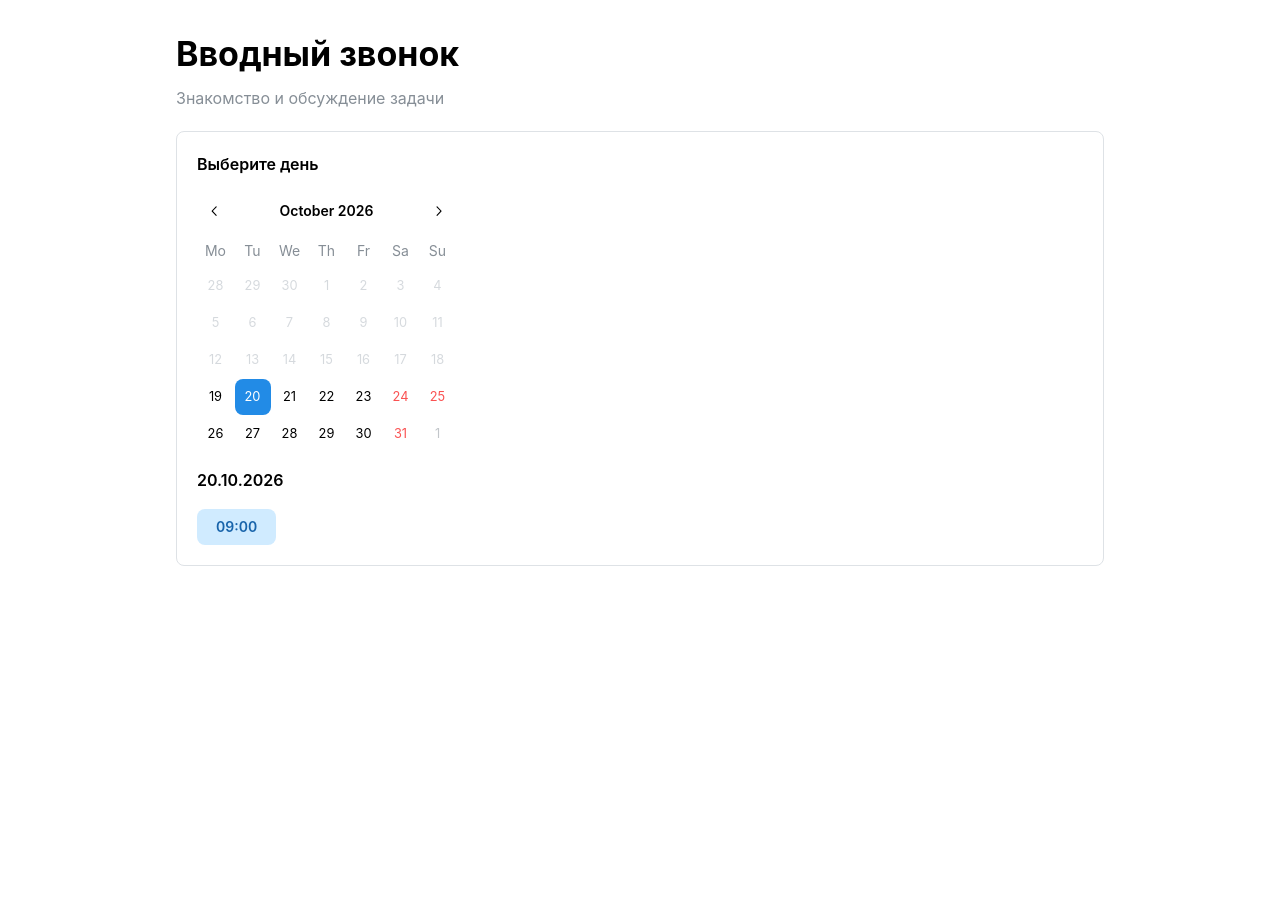
BookingPage (запись на слот) › при 409 показывает уведомление и перезапрашивает слоты
Check: the heading "Вводный звонок" is shown, box [176,33,459,74]
Click the button "09:00".
click(237, 527)  # box [197,509,276,545]
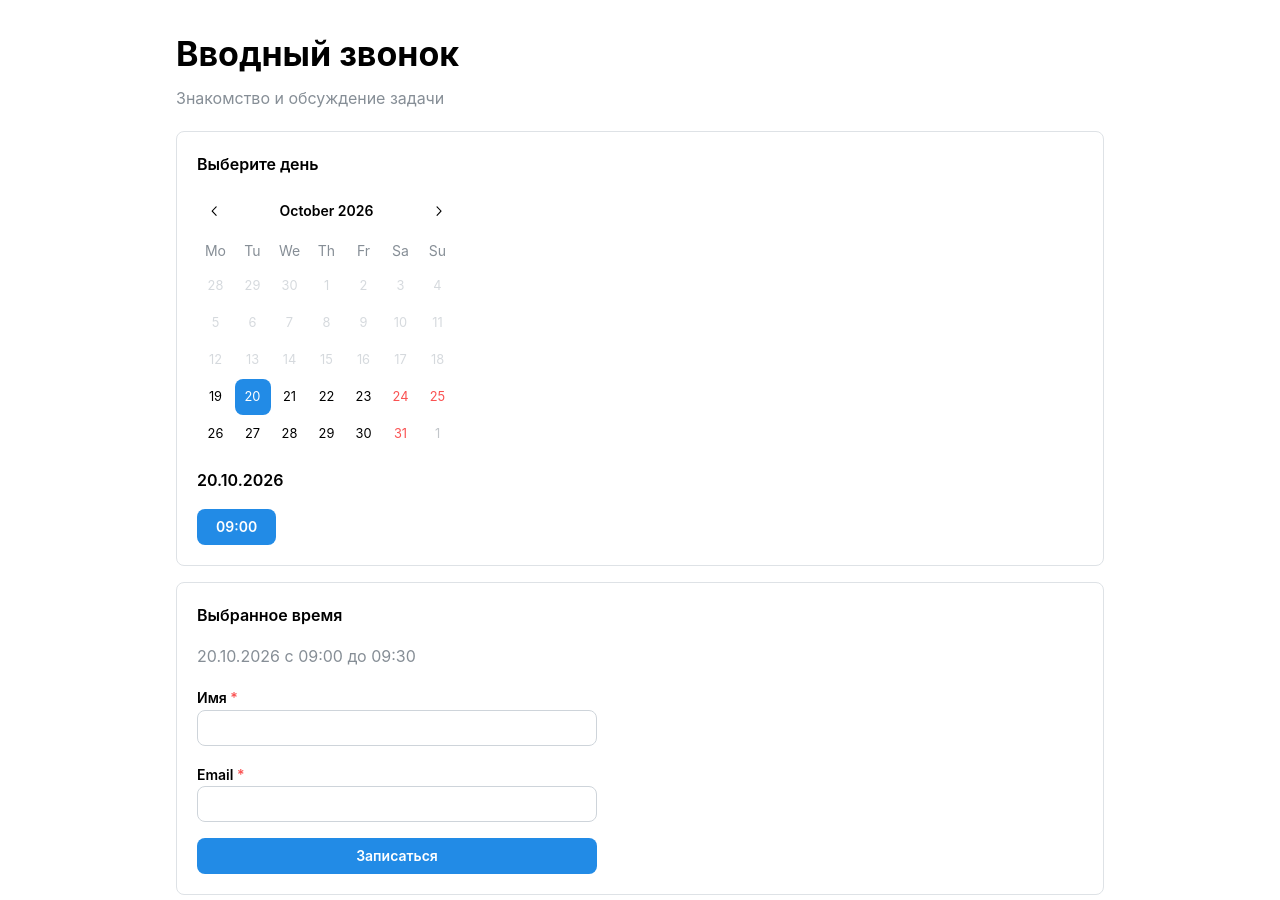
Type "Иван" into the field labelled "Имя *".
click(397, 728); type("Иван")  # box [197,710,597,746]
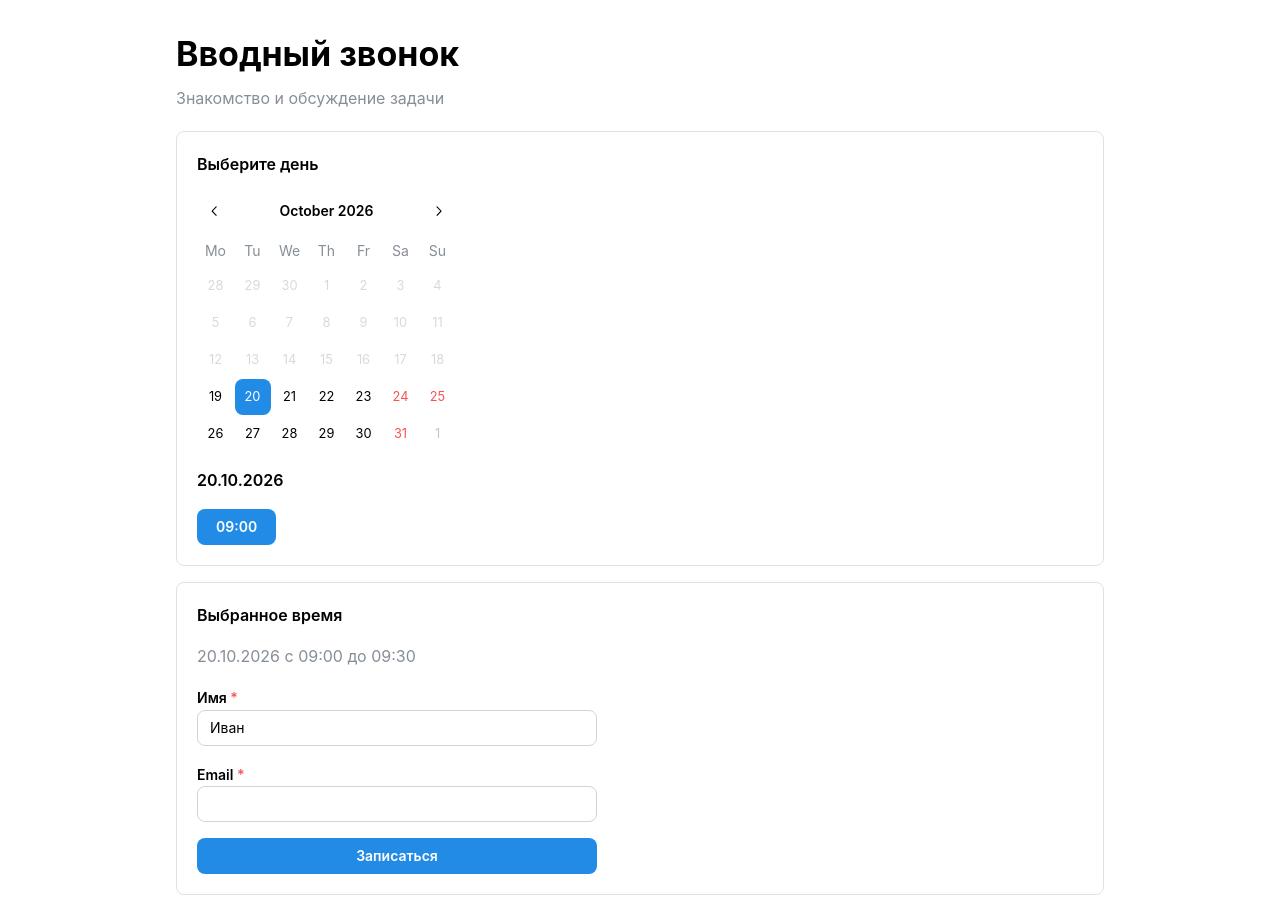
Type "ivan@example.com" into the field labelled "Email *".
click(397, 804); type("ivan@example.com")  # box [197,786,597,822]
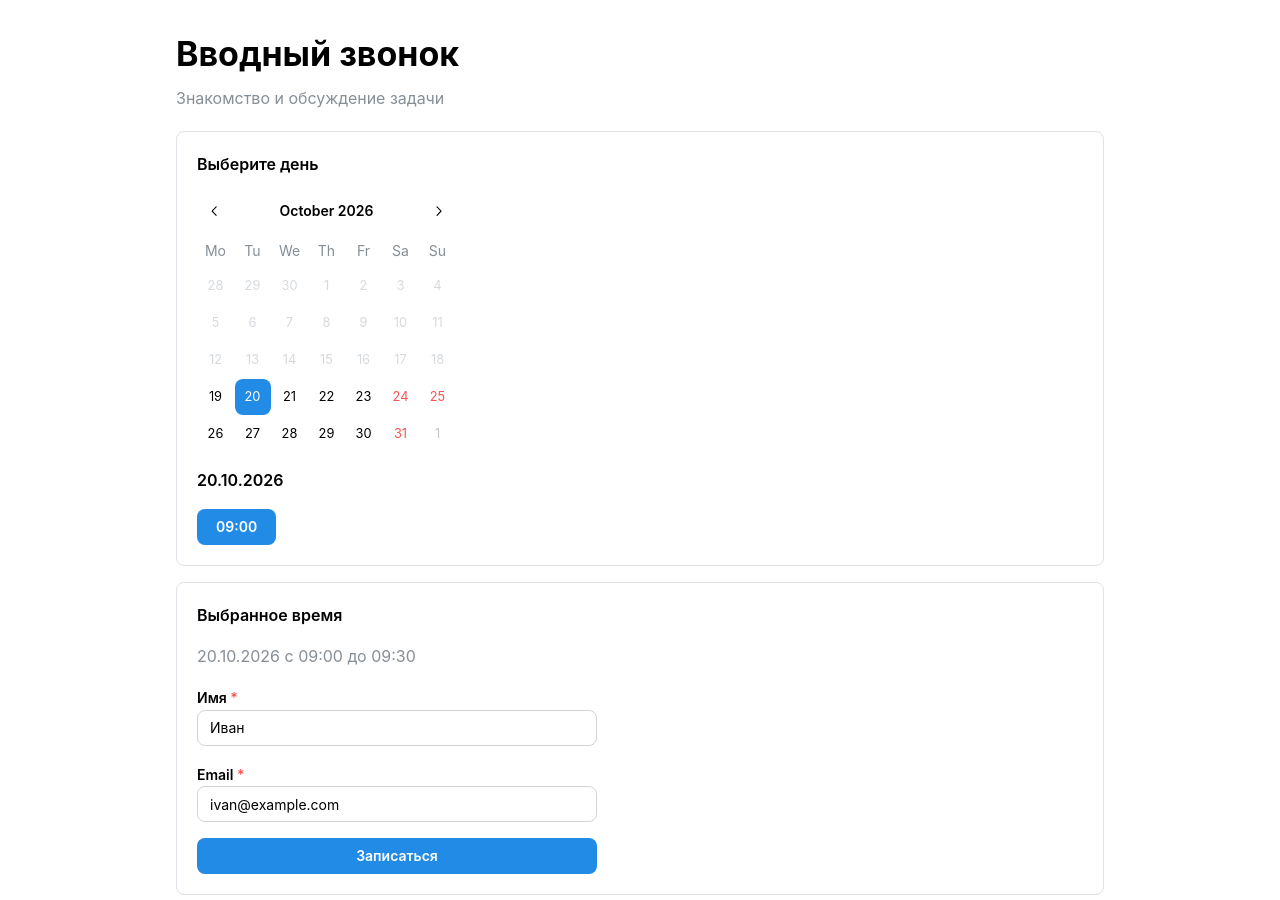
Click the button "Записаться".
click(397, 856)  # box [197,838,597,874]
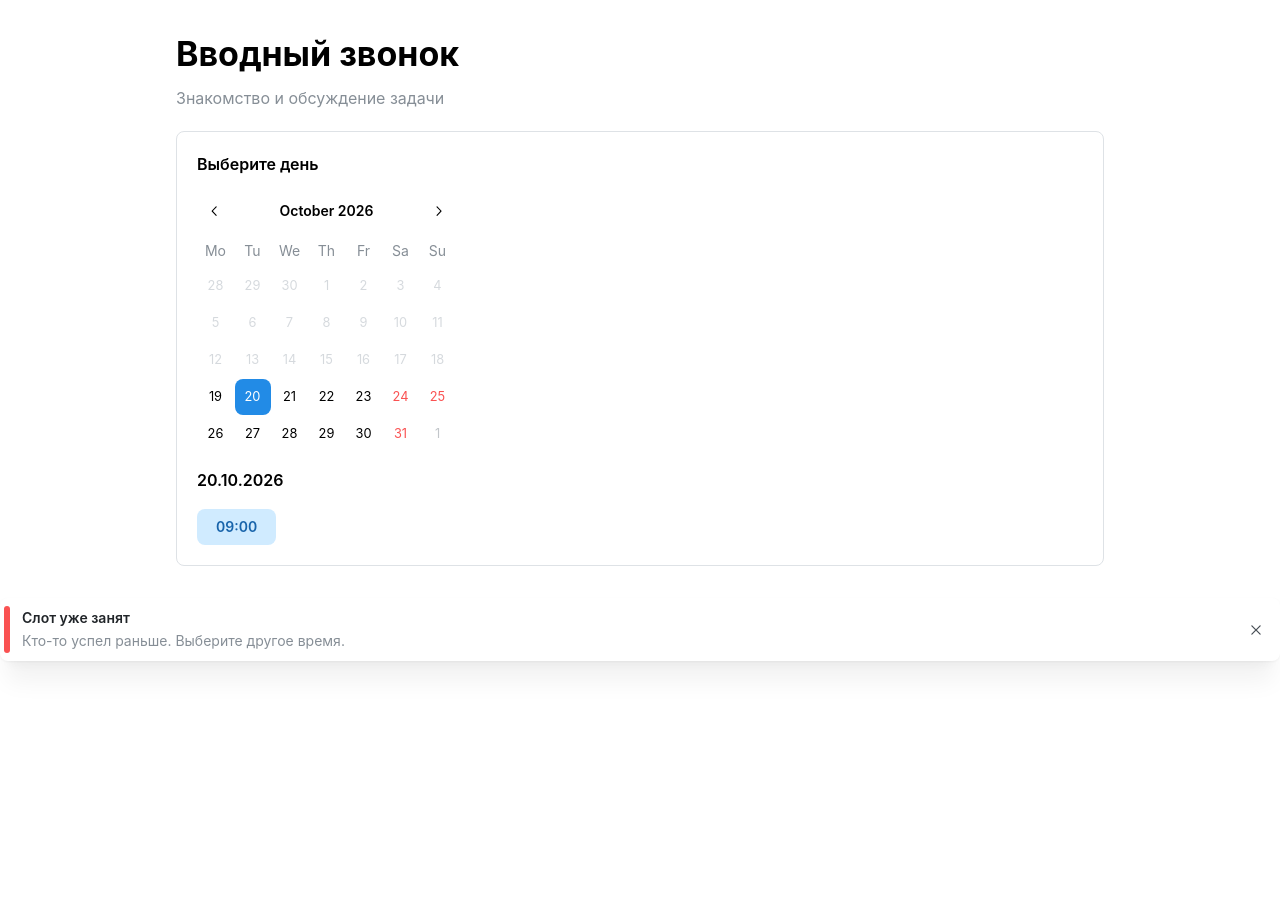
Check: the text "Слот уже занят" is shown, box [22,609,130,626]
